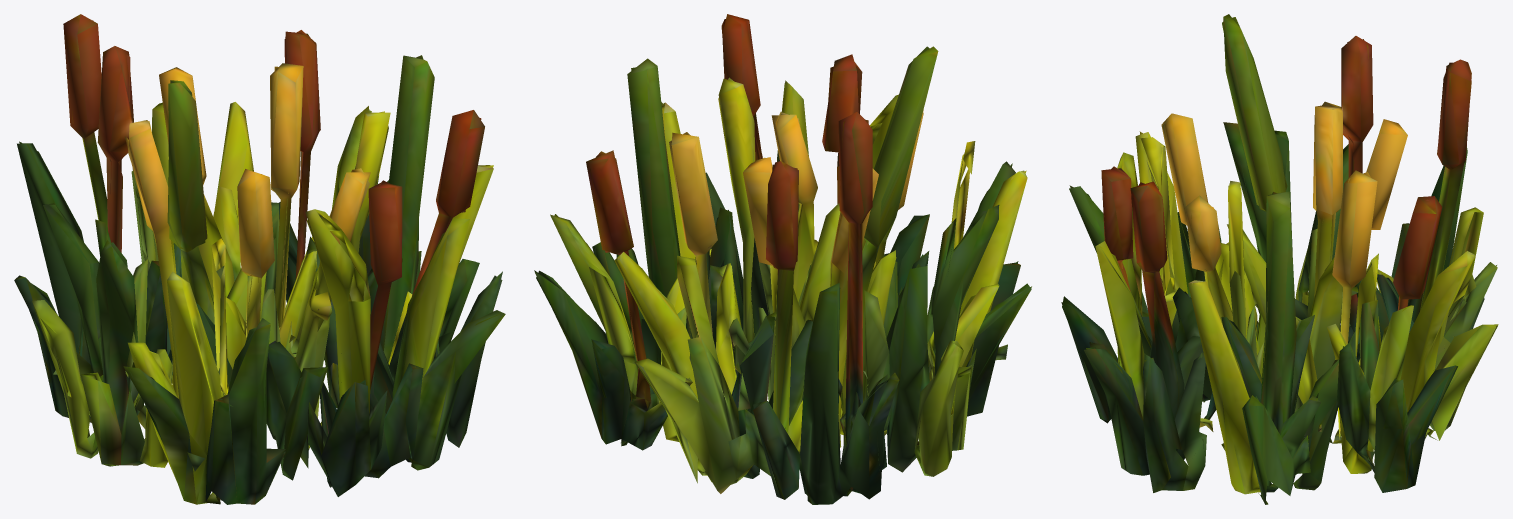
The model's file is lg-swamp-reeds.glb.
3 renders of one model, left to right at view 1: azimuth 30°, elevation 25°; view 2: azimuth 150°, elevation 25°; view 3: azimuth 270°, elevation 25°, orthographic. The views are drawn at different scales.
Parts seen in each view (by area): view 1: geometry_0; view 2: geometry_0; view 3: geometry_0.
Part boxes in pixels (bbox=[...]): geometry_0: bbox=[14, 14, 505, 504]; geometry_0: bbox=[534, 14, 1031, 504]; geometry_0: bbox=[1061, 14, 1498, 504].
Bounding box in the file's own units: 0.9911 × 0.9371 × 1.
1 material, 1 textured.
